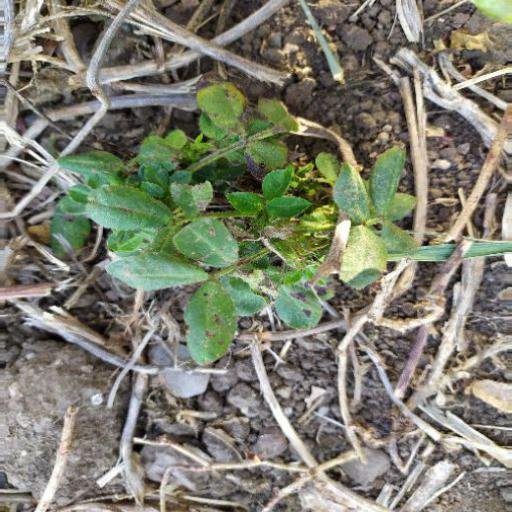weed: (52, 77, 423, 354)
